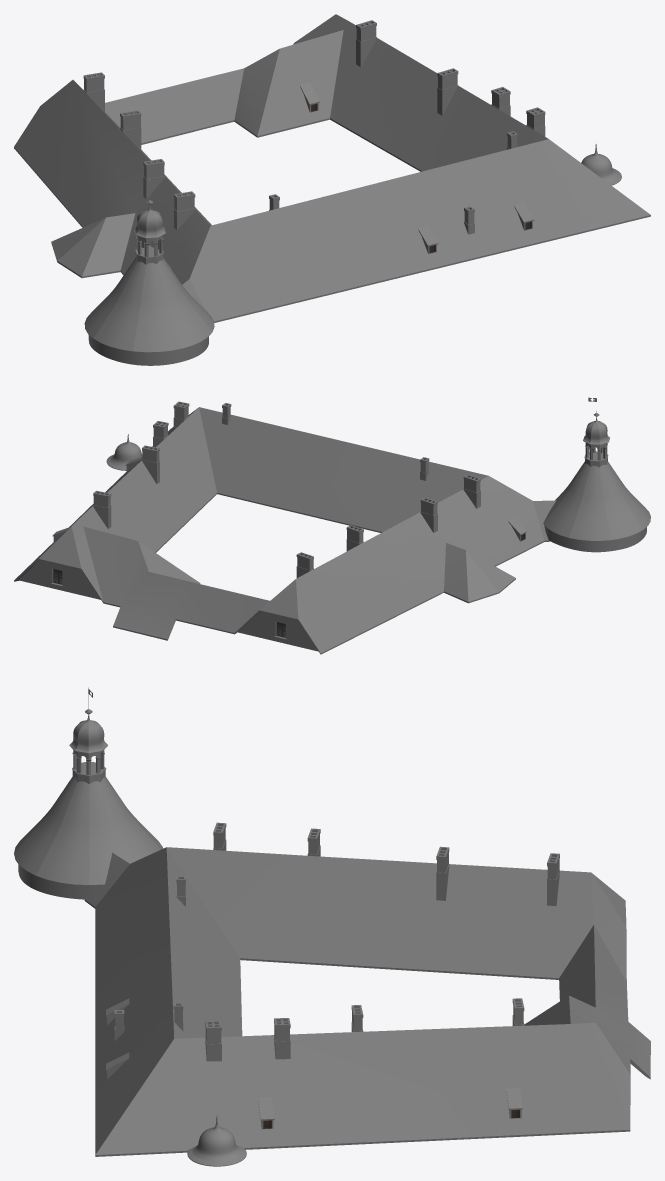
File: 4_STAVS_a.fbx
The picture shows the model from 3 angles, top to bottom: view 1: azimuth 30°, elevation 25°; view 2: azimuth 150°, elevation 25°; view 3: azimuth 270°, elevation 25°; orthographic projection. The views are drawn at different scales.
Visible parts, largest first — view 1: 4_JUMTS, 4_JUMTS_TORNIM, 4_SKURSTENJI, 4_TORNJI, 4_METALS, 4_STAVS; view 2: 4_JUMTS, 4_JUMTS_TORNIM, 4_STAVS, 4_SKURSTENJI, 4_TORNJI, 4_METALS; view 3: 4_JUMTS, 4_JUMTS_TORNIM, 4_SKURSTENJI, 4_TORNJI, 4_METALS, 4_STAVS.
Part boxes in pixels (left/top/right/bottom): 4_JUMTS: left=14, top=14, right=650, bottom=321; 4_JUMTS_TORNIM: left=84, top=257, right=214, bottom=352; 4_SKURSTENJI: left=83, top=20, right=545, bottom=234; 4_TORNJI: left=133, top=144, right=621, bottom=264; 4_METALS: left=14, top=118, right=650, bottom=322; 4_STAVS: left=88, top=335, right=208, bottom=365; 4_JUMTS: left=16, top=407, right=556, bottom=652; 4_JUMTS_TORNIM: left=543, top=461, right=650, bottom=541; 4_STAVS: left=18, top=525, right=646, bottom=651; 4_SKURSTENJI: left=93, top=401, right=480, bottom=577; 4_TORNJI: left=106, top=397, right=609, bottom=470; 4_METALS: left=14, top=493, right=549, bottom=654; 4_JUMTS: left=85, top=847, right=650, bottom=1154; 4_JUMTS_TORNIM: left=14, top=777, right=163, bottom=885; 4_SKURSTENJI: left=114, top=822, right=559, bottom=1061; 4_TORNJI: left=69, top=687, right=246, bottom=1166; 4_METALS: left=84, top=899, right=650, bottom=1156; 4_STAVS: left=18, top=864, right=98, bottom=899.
Bounding box in the file's own units: 60584 × 18020 × 49800.
